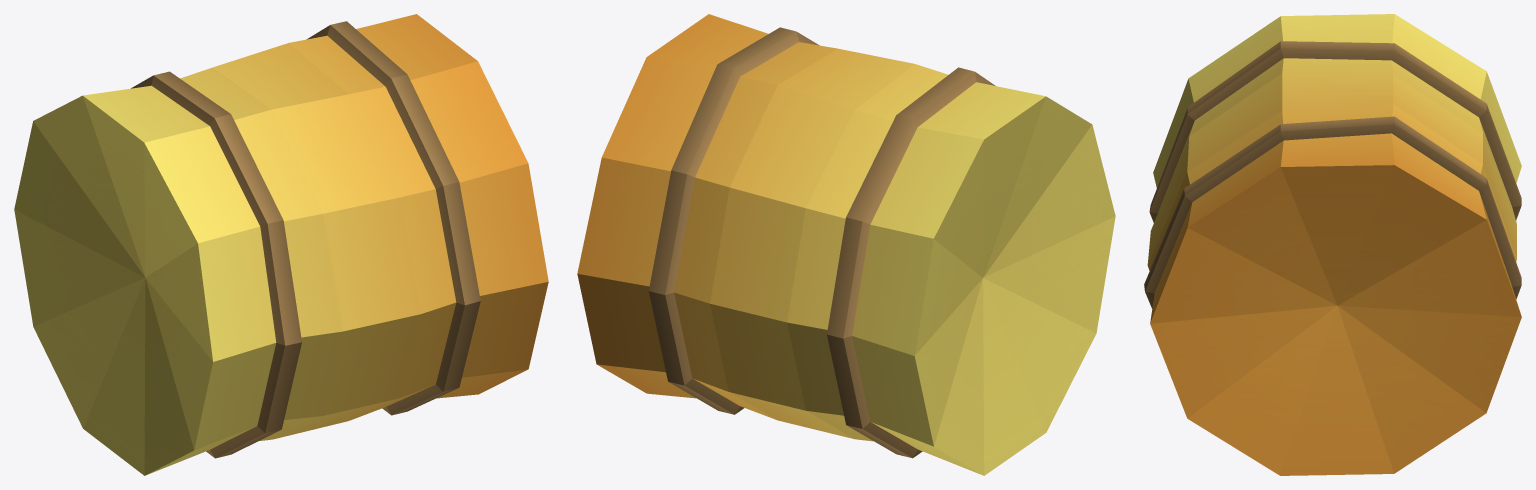
The model's file is M_hay.fbx.
3 renders of one model, left to right at view 1: azimuth 30°, elevation 25°; view 2: azimuth 150°, elevation 25°; view 3: azimuth 270°, elevation 25°, orthographic. The views are drawn at different scales.
Visible parts, largest first — view 1: hay; view 2: hay; view 3: hay.
Part boxes in pixels (x1=…): hay: x1=14, y1=14, x2=548, y2=475; hay: x1=577, y1=14, x2=1115, y2=475; hay: x1=1144, y1=14, x2=1521, y2=475.
Bounding box in the file's own units: 200 × 198 × 211.
